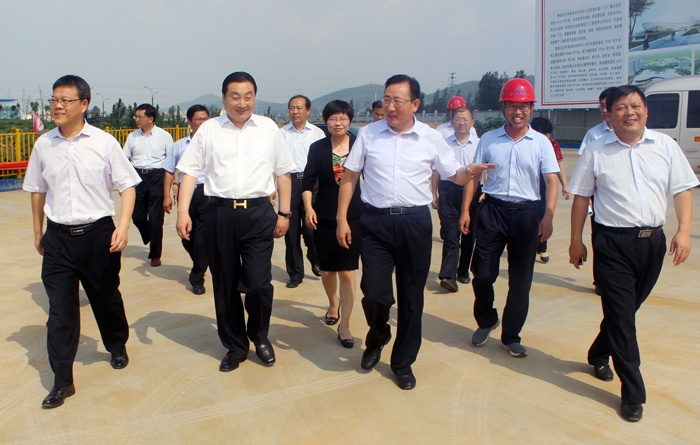none: (604, 83, 647, 138), (381, 71, 422, 127), (49, 74, 92, 126), (218, 69, 259, 121), (319, 95, 358, 138), (286, 93, 312, 126), (185, 104, 211, 131), (450, 106, 474, 135), (597, 86, 616, 122), (133, 103, 155, 128), (369, 97, 384, 121)
red: (497, 77, 535, 126), (447, 92, 465, 117)
